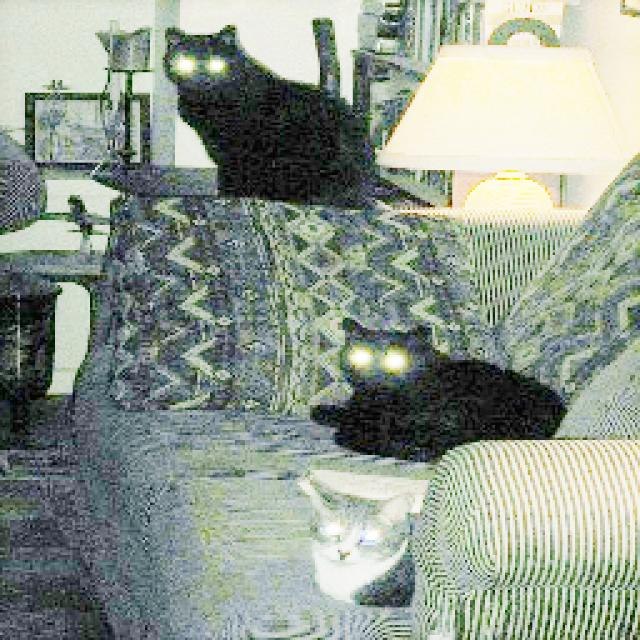cat: (162, 13, 387, 205), (311, 310, 573, 463), (299, 472, 425, 608)
